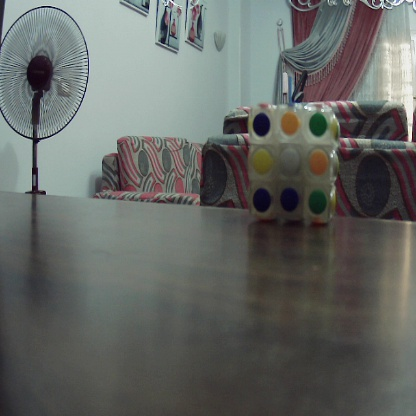Rubix Cube: (245, 102, 338, 224)
